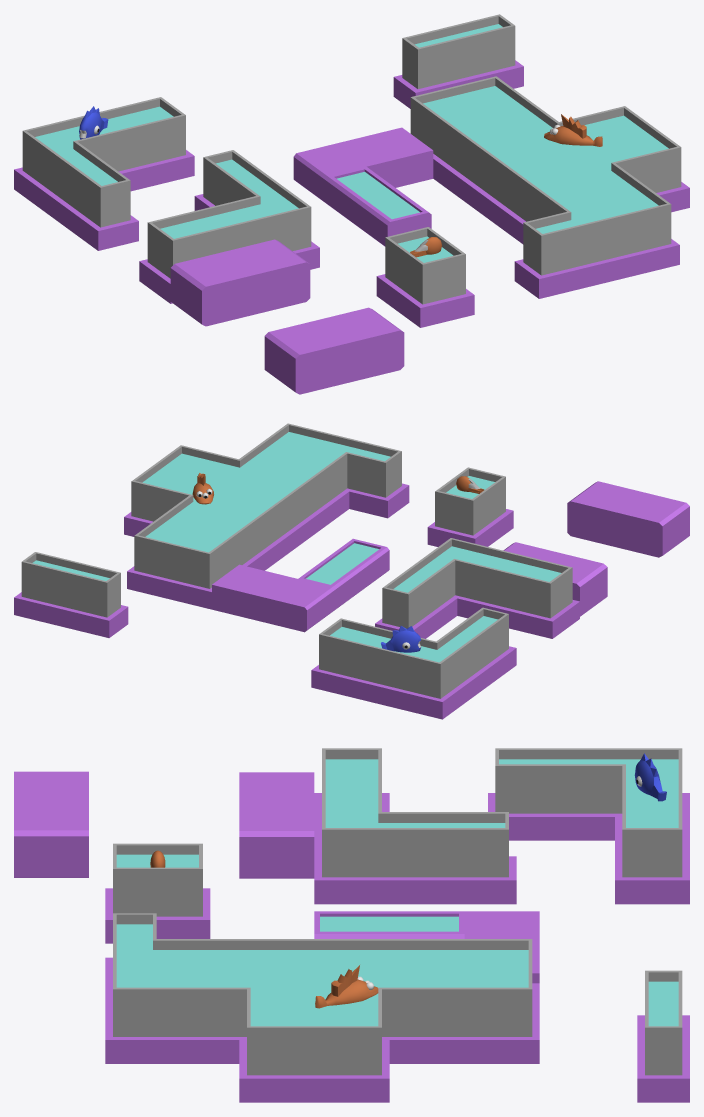
File: Platform_Fish.fbx
3 views of the same model, one above another, from view 1: azimuth 30°, elevation 25°; view 2: azimuth 150°, elevation 25°; view 3: azimuth 270°, elevation 25° (orthographic). The views are drawn at different scales.
Visible parts, largest first — view 1: Cube.005, Cube.010, Cube.009, Cube.008, Cube.006, Cube.007, Cube.013, Cube.012, Sphere.001, Sphere; view 2: Cube.005, Cube.010, Cube.009, Cube.008, Cube.013, Cube.007, Cube.012, Cube.006, Sphere, Sphere.001; view 3: Cube.005, Cube.009, Cube.010, Cube.012, Cube.006, Cube.007, Cube.008, Cube.013, Sphere.001, Sphere.
Boxes of the visible parts, x1=… form: Cube.005: x1=410, y1=76, x2=689, y2=298; Cube.010: x1=14, y1=97, x2=194, y2=250; Cube.009: x1=139, y1=150, x2=319, y2=303; Cube.008: x1=293, y1=127, x2=433, y2=246; Cube.006: x1=170, y1=239, x2=310, y2=326; Cube.007: x1=264, y1=307, x2=404, y2=394; Cube.013: x1=393, y1=14, x2=523, y2=108; Cube.012: x1=376, y1=227, x2=474, y2=327; Sphere.001: x1=544, y1=114, x2=602, y2=146; Sphere: x1=79, y1=106, x2=108, y2=139; Cube.005: x1=124, y1=423, x2=409, y2=609; Cube.010: x1=311, y1=607, x2=516, y2=719; Cube.009: x1=375, y1=538, x2=579, y2=638; Cube.008: x1=212, y1=538, x2=389, y2=632; Cube.013: x1=14, y1=552, x2=128, y2=637; Cube.007: x1=567, y1=481, x2=689, y2=557; Cube.012: x1=427, y1=467, x2=513, y2=546; Cube.006: x1=503, y1=542, x2=607, y2=616; Sphere: x1=381, y1=626, x2=420, y2=652; Sphere.001: x1=192, y1=473, x2=213, y2=504; Cube.005: x1=105, y1=913, x2=539, y2=1102; Cube.009: x1=314, y1=748, x2=516, y2=904; Cube.010: x1=488, y1=748, x2=689, y2=904; Cube.012: x1=105, y1=843, x2=210, y2=943; Cube.006: x1=239, y1=772, x2=314, y2=878; Cube.007: x1=14, y1=771, x2=88, y2=877; Cube.008: x1=314, y1=911, x2=539, y2=983; Cube.013: x1=637, y1=970, x2=689, y2=1102; Sphere.001: x1=315, y1=965, x2=378, y2=1008; Sphere: x1=634, y1=753, x2=666, y2=801.
Bounding box in the file's own units: 900 × 142 × 900.
